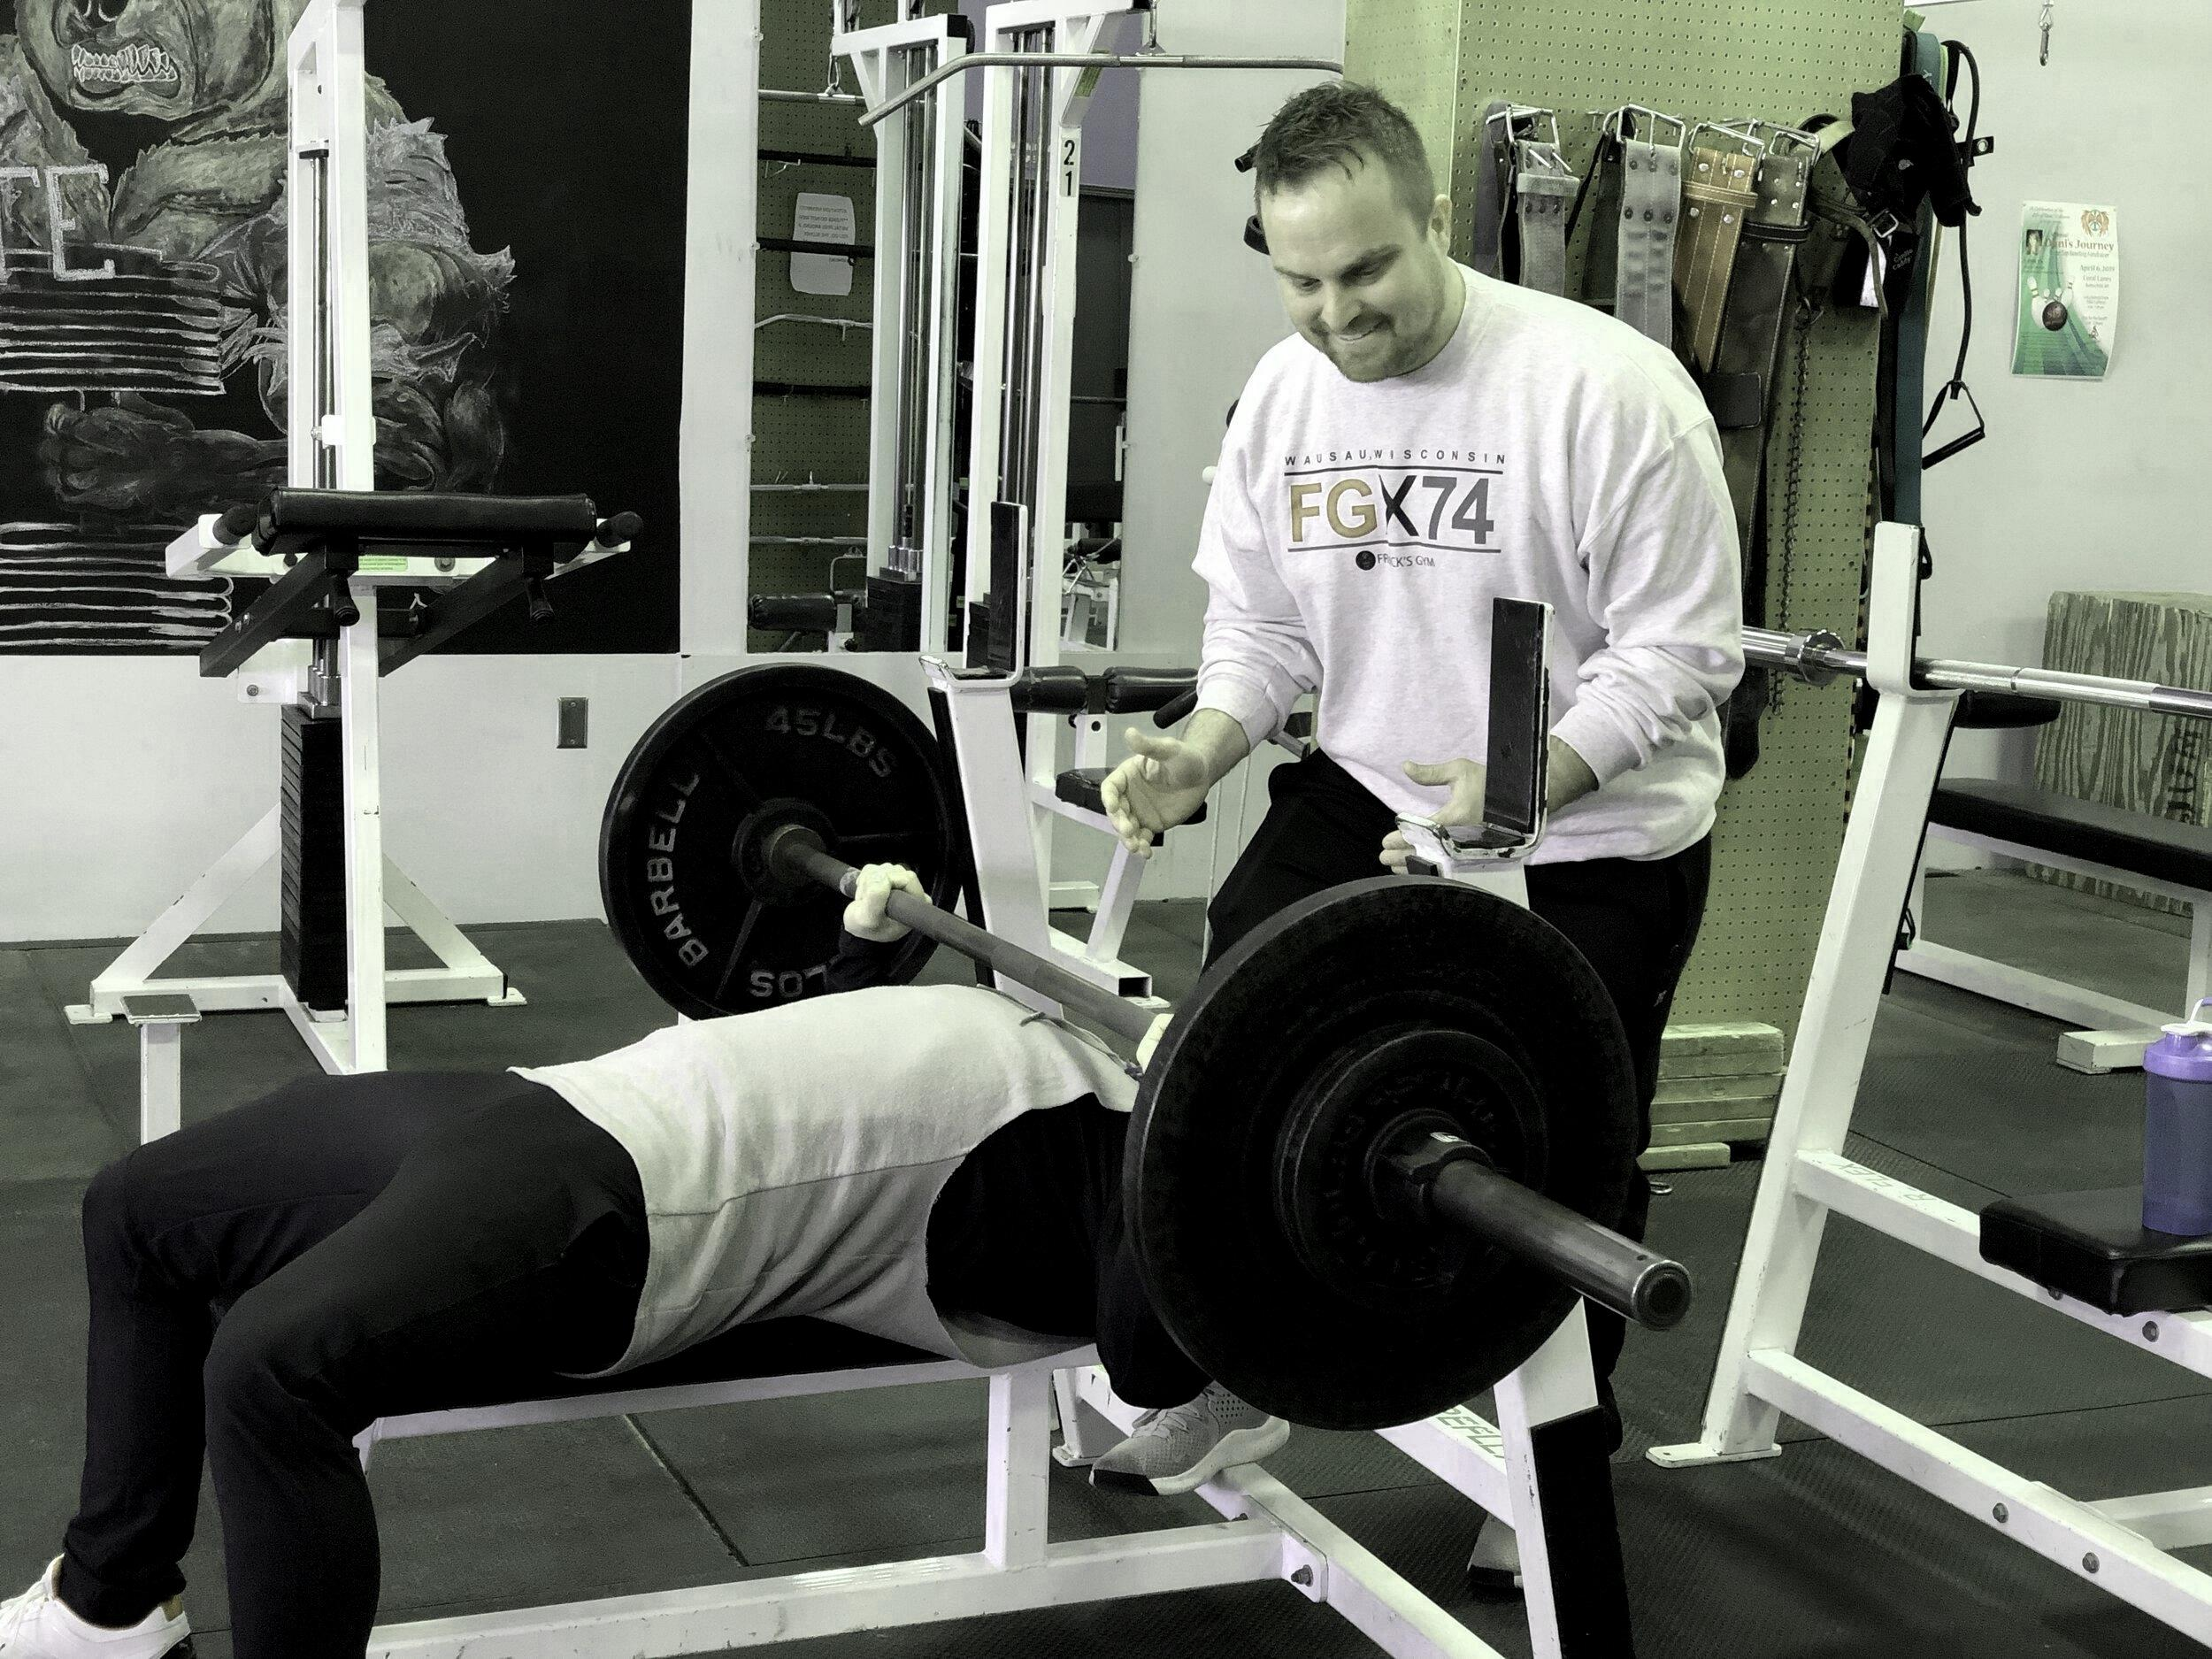Barbell: (1630, 1248, 1696, 1342)
